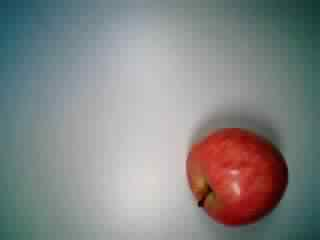apple: (187, 122, 291, 226)
